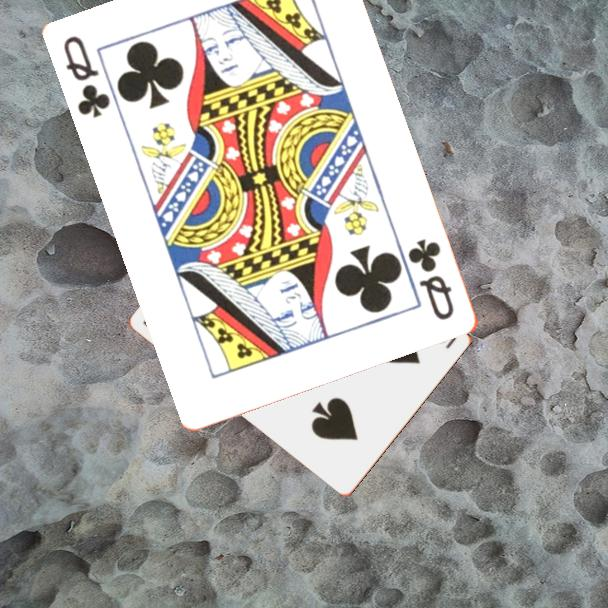c12: (60, 32, 114, 121), (405, 235, 458, 324)
